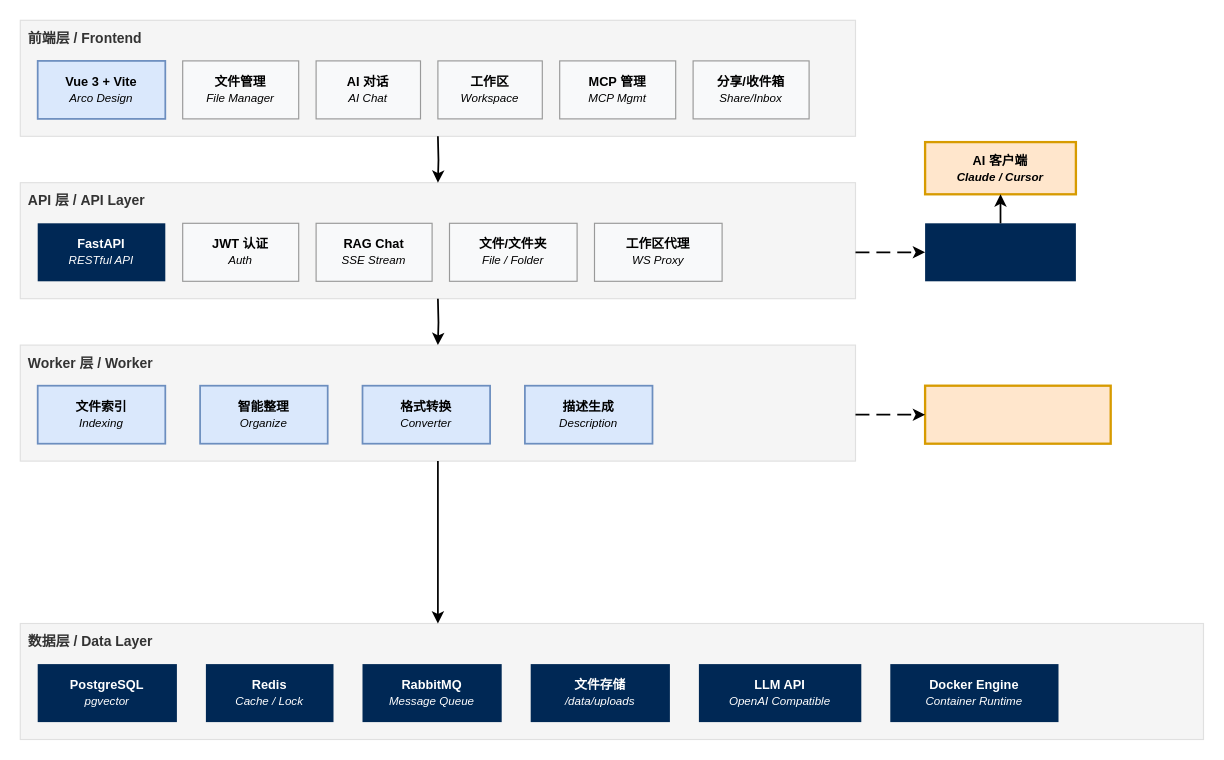
Image size: 1224x760. Some labels were removed from this diagram. The shapes that lost their labels are listed below. From the top down, each one's centre as x and y in pixels, then its label:
At (1000,252): "MCP Server FastMCP :5001".
At (1017,414): "OpenCode 工作区 Docker Sandbox".
